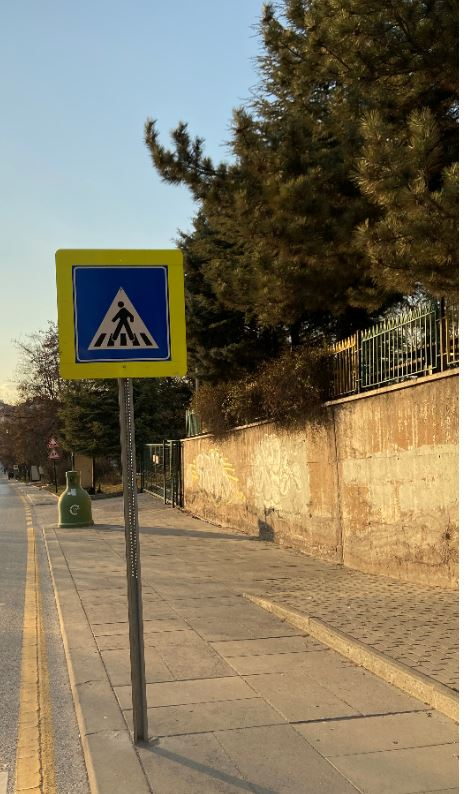Yaya Gecidi: (77, 263, 174, 364)
